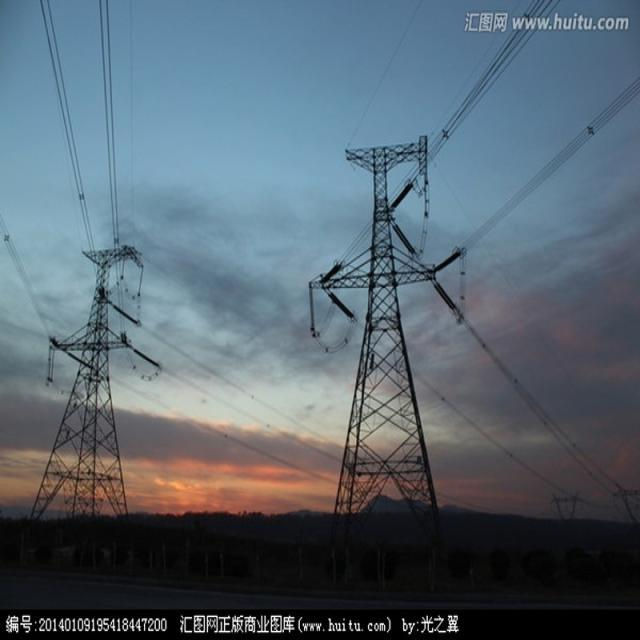non-critical vegetation: (302, 130, 470, 535), (25, 233, 162, 517)
